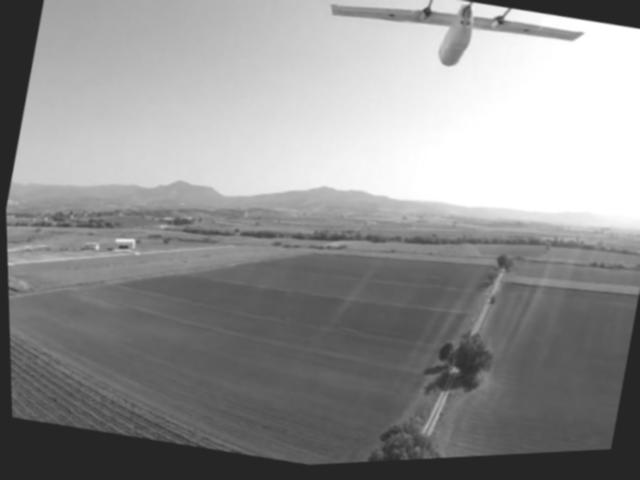hedef: (304, 0, 590, 112)
